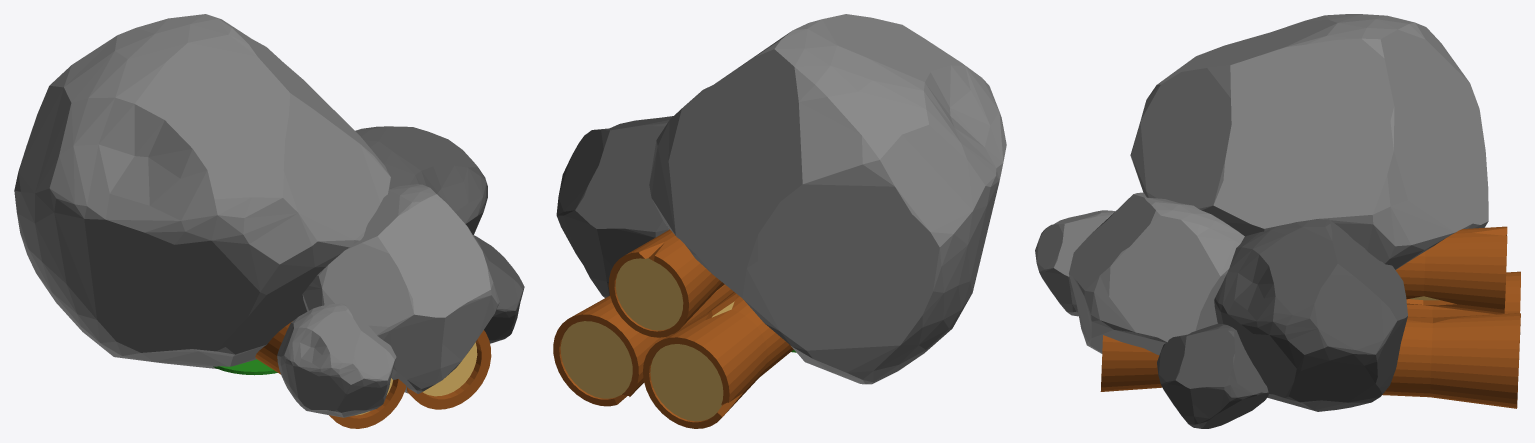
Rendered from rockwoodlakeleaf.fbx.
3 renders of one model, left to right at view 1: azimuth 30°, elevation 25°; view 2: azimuth 150°, elevation 25°; view 3: azimuth 270°, elevation 25°, orthographic. The views are drawn at different scales.
Parts seen in each view (by area): view 1: Cube.002, Cube.003, Circle.008; view 2: Cube.002, Cube.003; view 3: Cube.002, Cube.003.
Boxes of the visible parts, x1,y1,x2,y2 form: Cube.002: [14, 14, 524, 417]; Cube.003: [255, 321, 491, 428]; Circle.008: [213, 359, 277, 375]; Cube.002: [556, 14, 1006, 384]; Cube.003: [553, 229, 793, 428]; Cube.002: [1035, 14, 1488, 428]; Cube.003: [1100, 226, 1520, 408].
Bounding box in the file's own units: 170 × 127 × 175.
